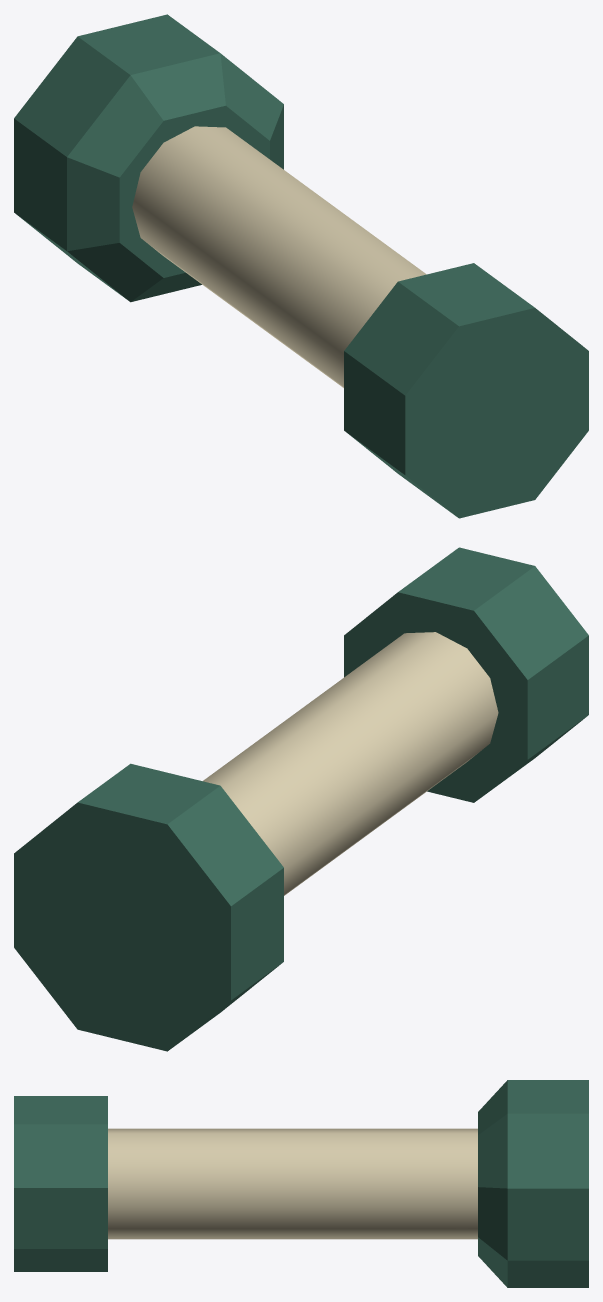
Rendered from pd3_emitter.obj.
3 views of the same model, one above another, from view 1: azimuth 30°, elevation 25°; view 2: azimuth 150°, elevation 25°; view 3: azimuth 270°, elevation 25° (orthographic). The views are drawn at different scales.
Visible parts, largest first — view 1: pd3_emitter; view 2: pd3_emitter; view 3: pd3_emitter.
Part boxes in pixels (x1,y1,x2,y2): pd3_emitter: (14, 14, 588, 518); pd3_emitter: (14, 547, 588, 1051); pd3_emitter: (14, 1080, 588, 1287).
Size of the model in its own units: 0.52 by 0.52 by 1.55.
